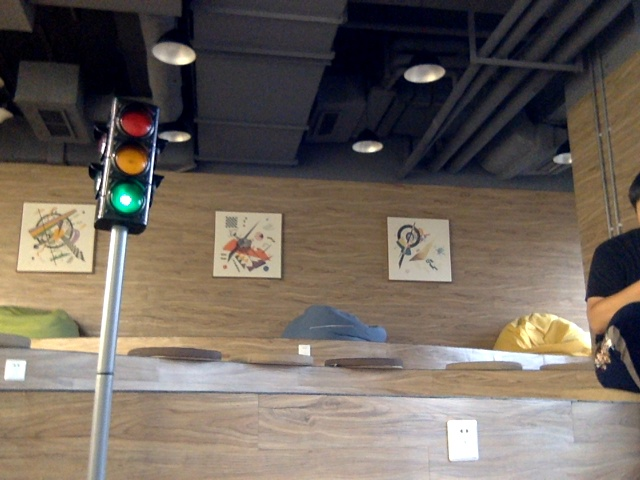green: (109, 100, 147, 220)
